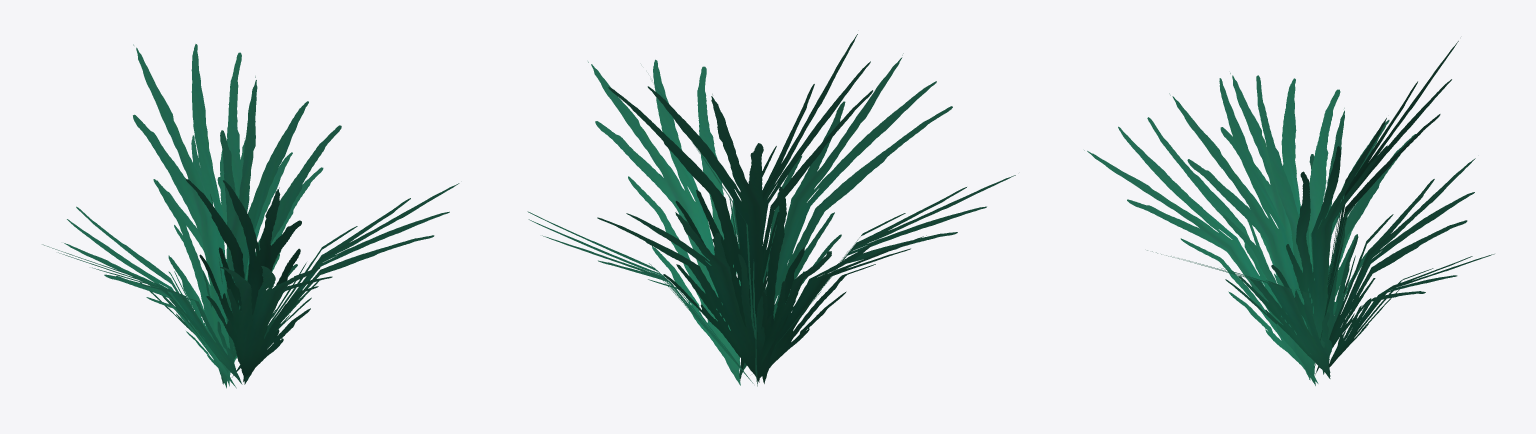
File: grassWeed3.obj
3 views of the same model, side by side, from view 1: azimuth 30°, elevation 25°; view 2: azimuth 150°, elevation 25°; view 3: azimuth 270°, elevation 25° (orthographic). The views are drawn at different scales.
Parts seen in each view (by area): view 1: Plane.004_Plane.056; view 2: Plane.004_Plane.056; view 3: Plane.004_Plane.056.
Boxes of the visible parts, <box> form: Plane.004_Plane.056: <box>42,44,459,388</box>; Plane.004_Plane.056: <box>527,34,1015,386</box>; Plane.004_Plane.056: <box>1084,41,1494,385</box>.
Size of the model in its own units: 1.75 by 1.29 by 1.55.
